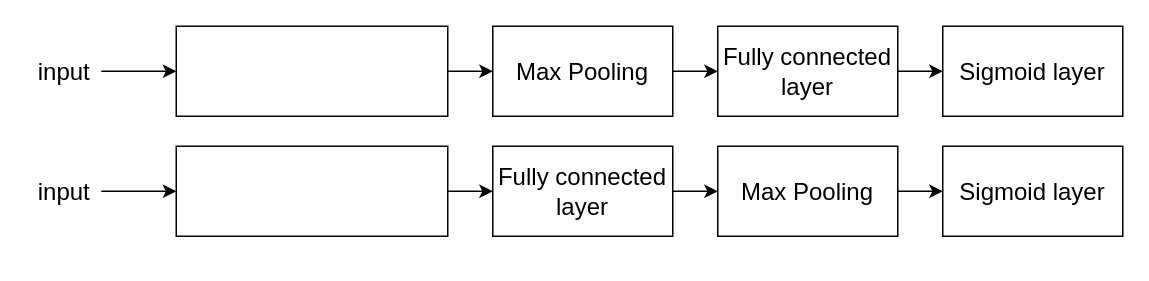
Image size: 1149x281. Some labels were removed from this diagram. The shapes that lost their labels are listed below. From the top down, each one's centre as x and y in pixels, then its label:
At [311,70]: "GRU (H livelli nascosti)".
At [311,190]: "TCN".
